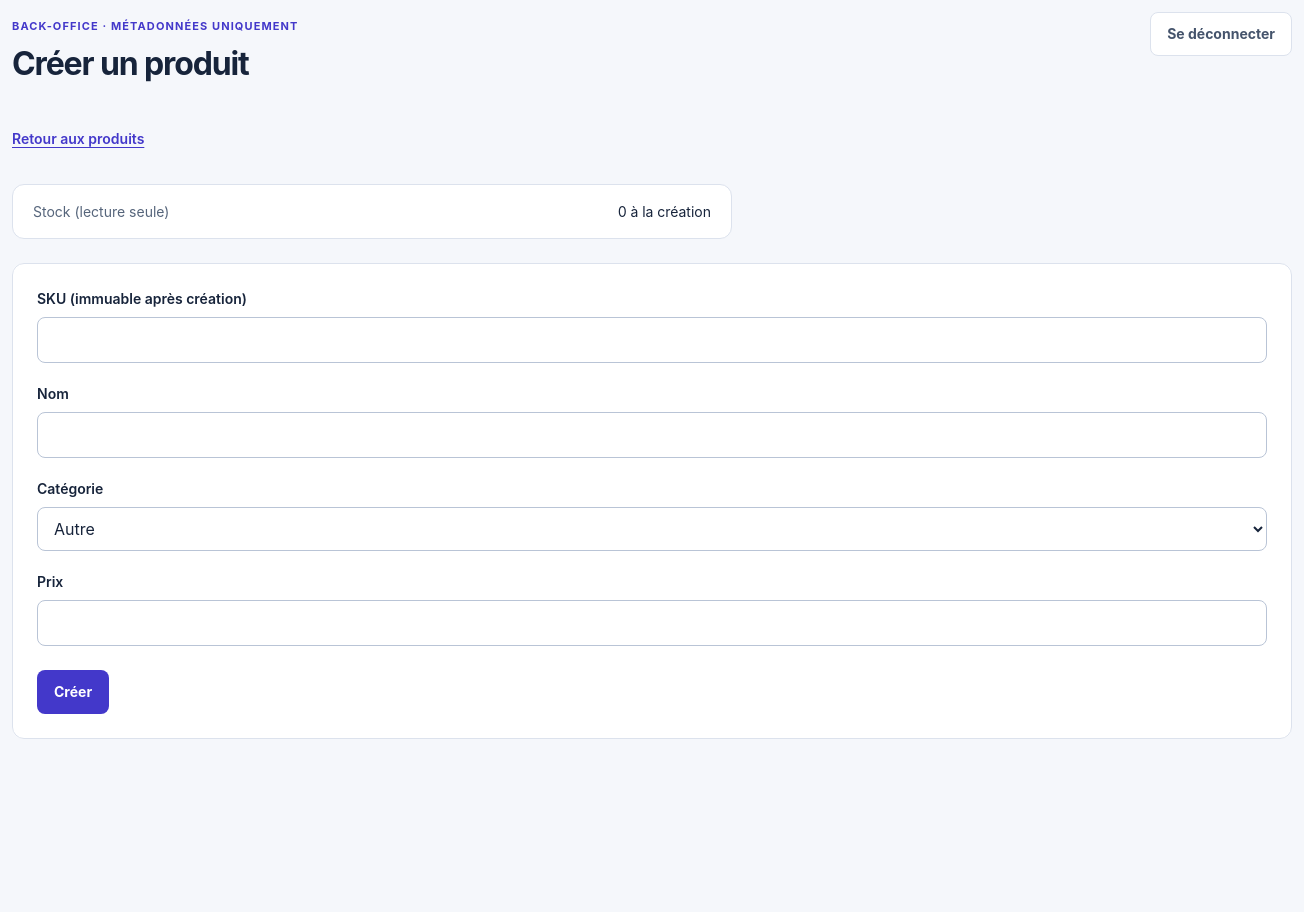
Test: creates once with cookie CSRF and whitelist, then prevents repeated creation
Type "SKU-1" into the field labelled "SKU (immuable après création)" at coordinates (652, 340), box [37,317,1267,363]
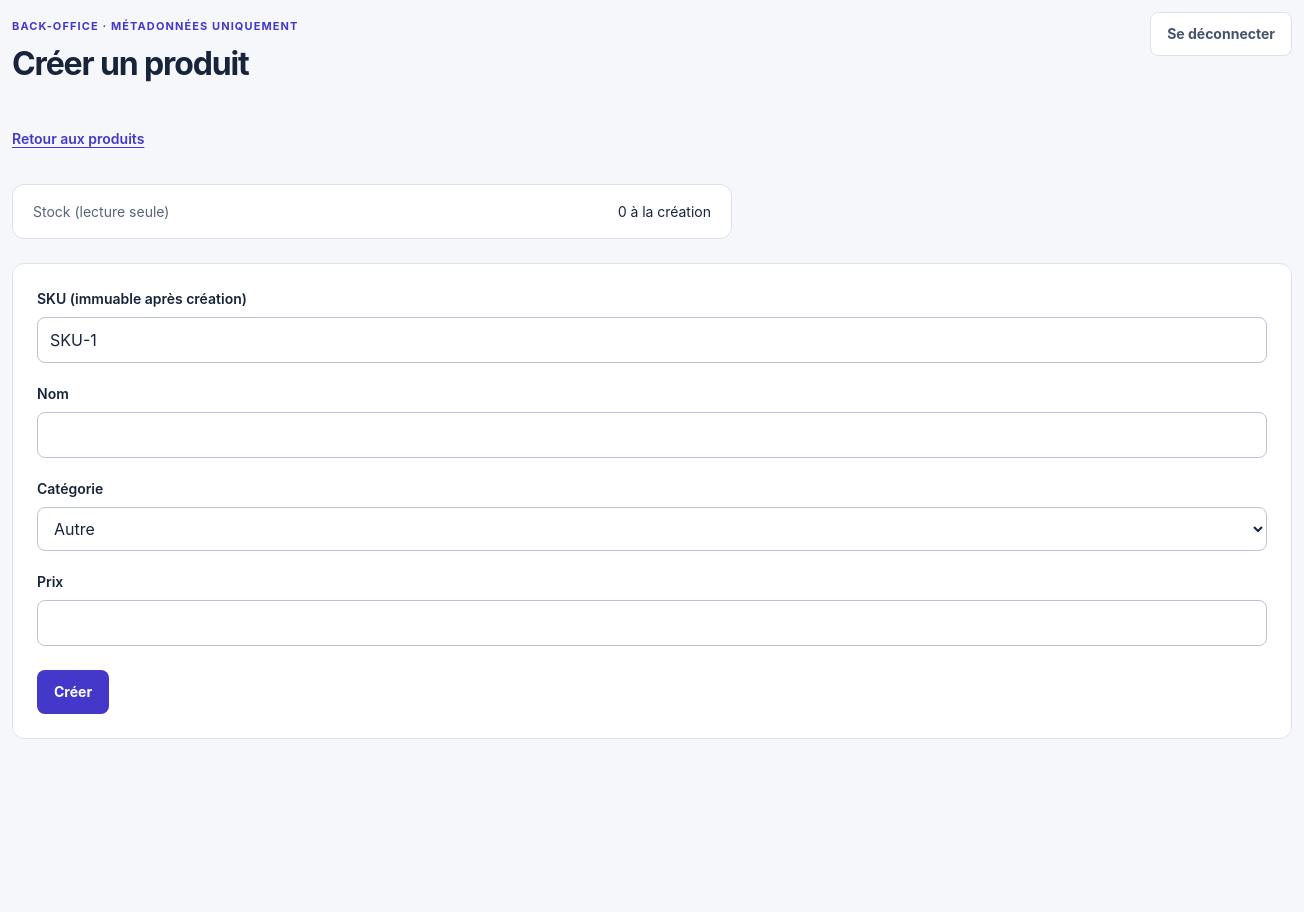
Type "Drill" into the field labelled "Nom" at coordinates (652, 435), box [37,412,1267,458]
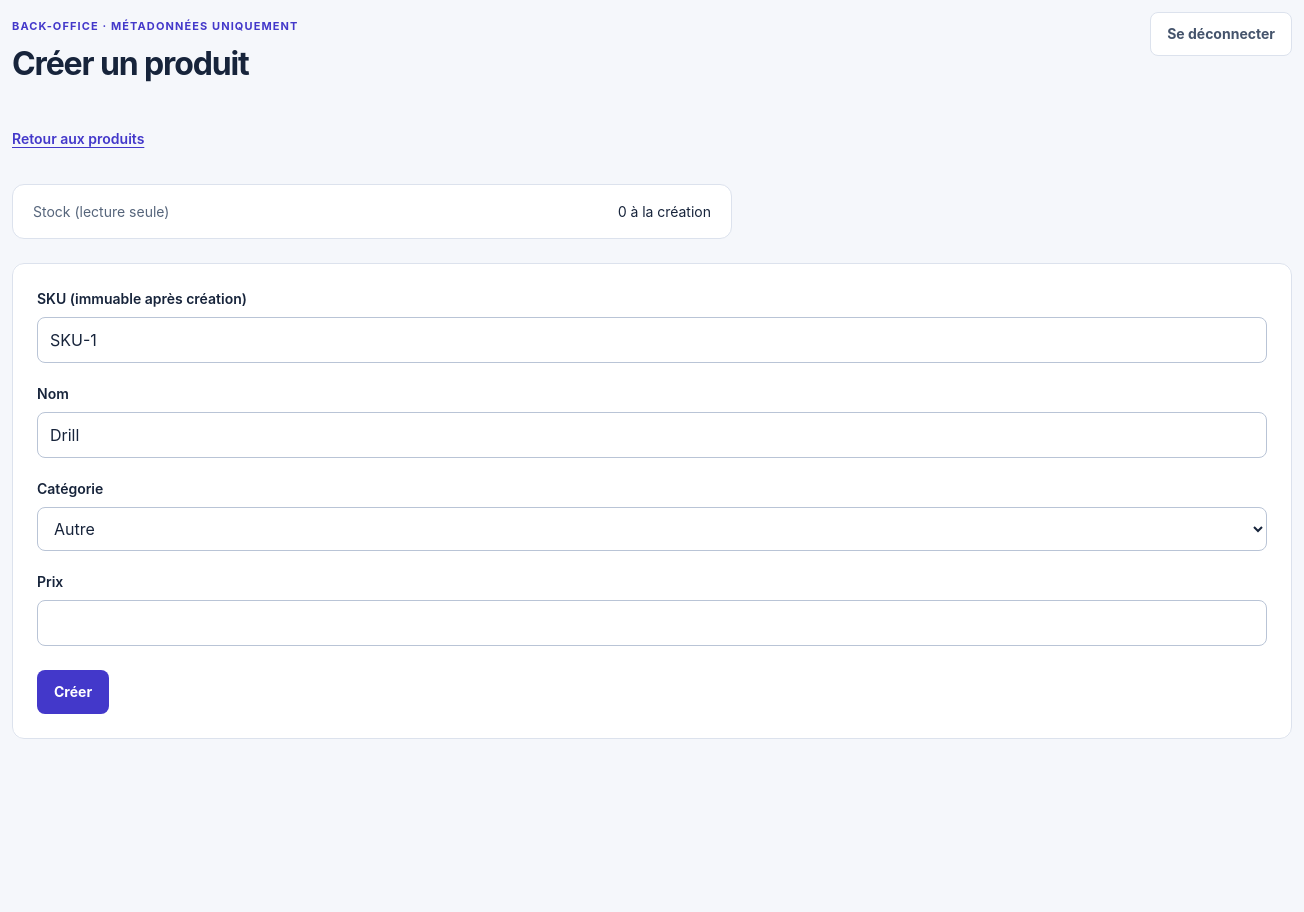
Select "Perceuse" in the dropdown labelled "Catégorie" at coordinates (652, 529), box [37,507,1267,551]
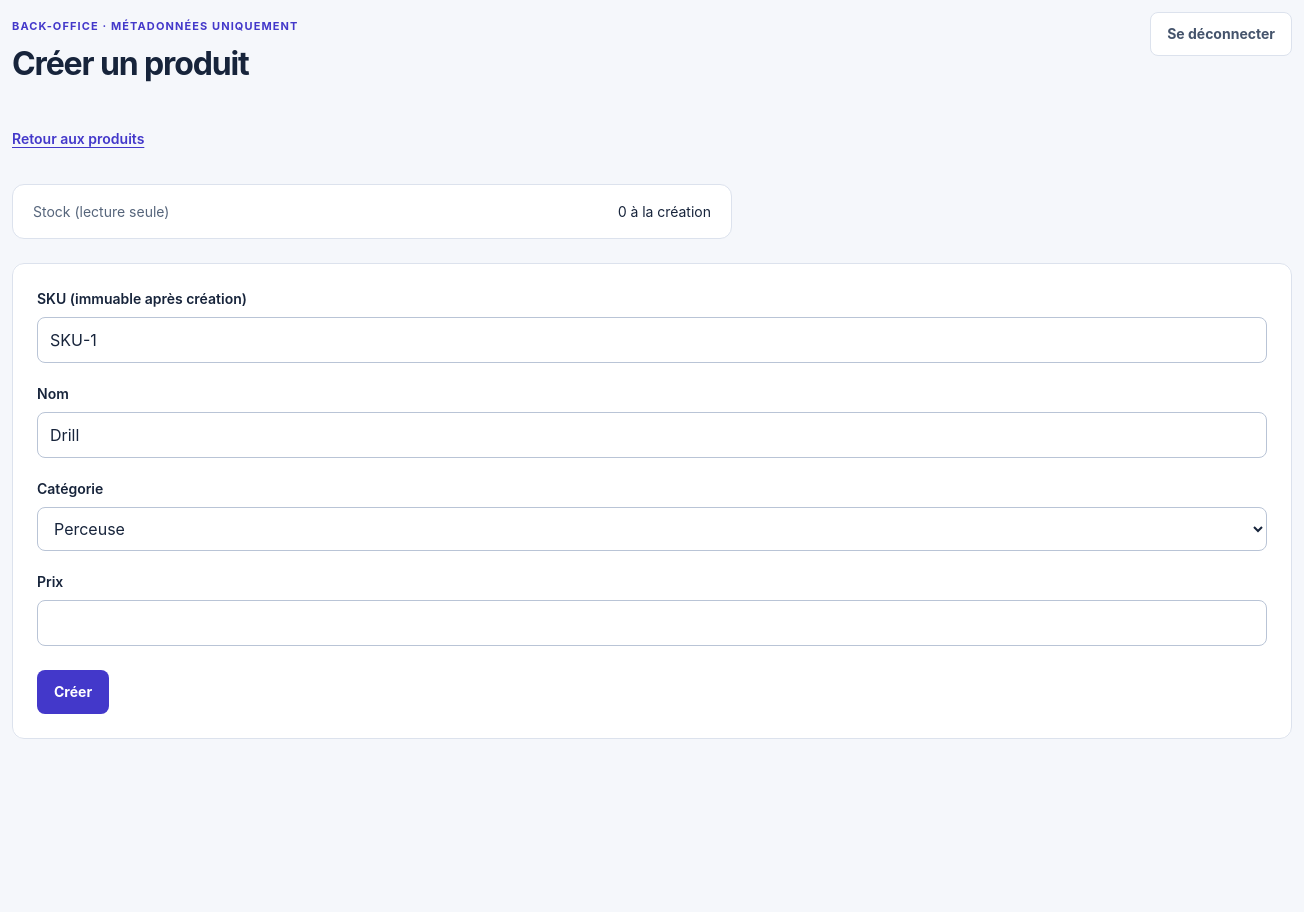
Type "12.5" into the number field labelled "Prix" at coordinates (652, 623), box [37,600,1267,646]
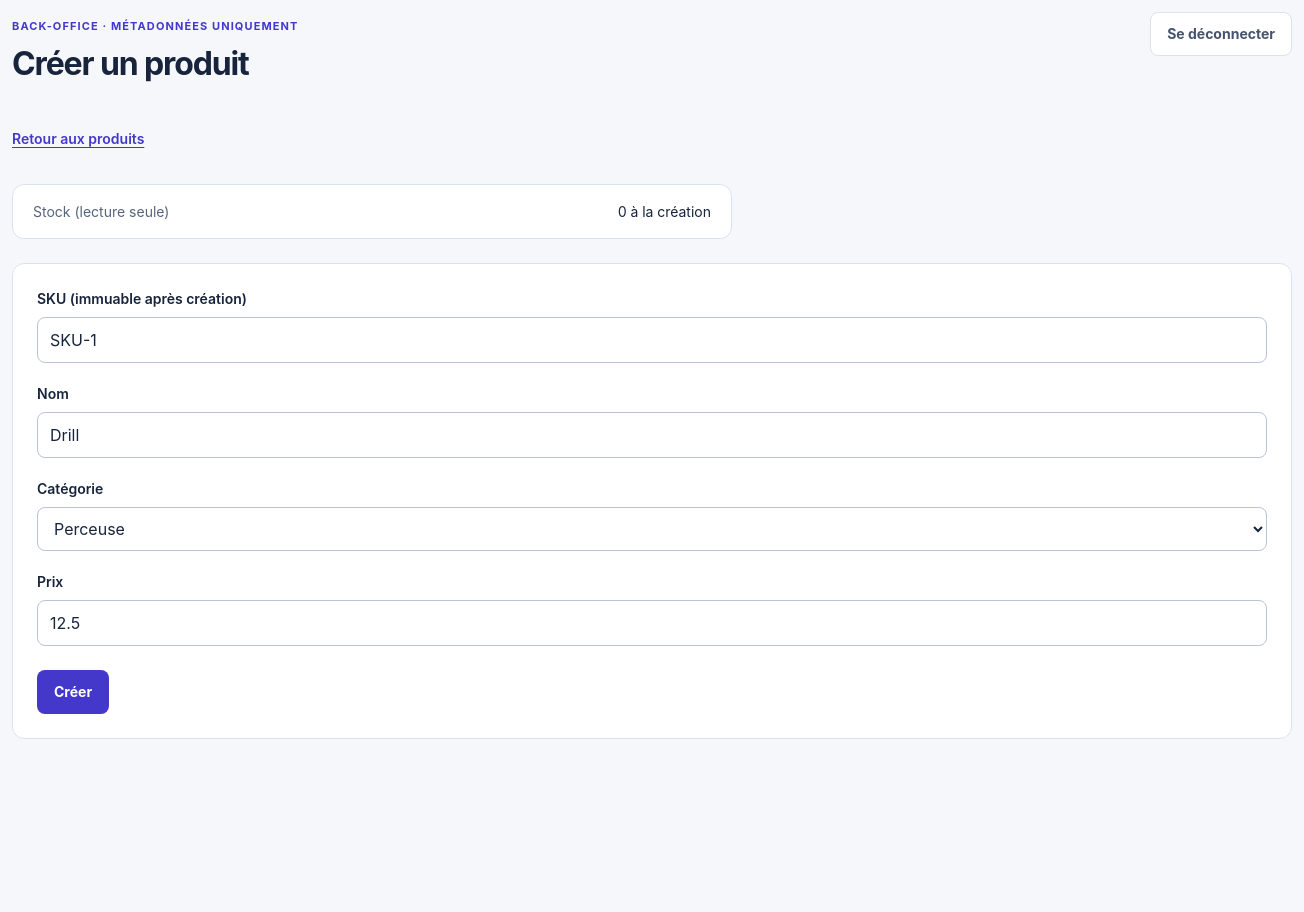
Submit the form, box [12,263,1292,739]
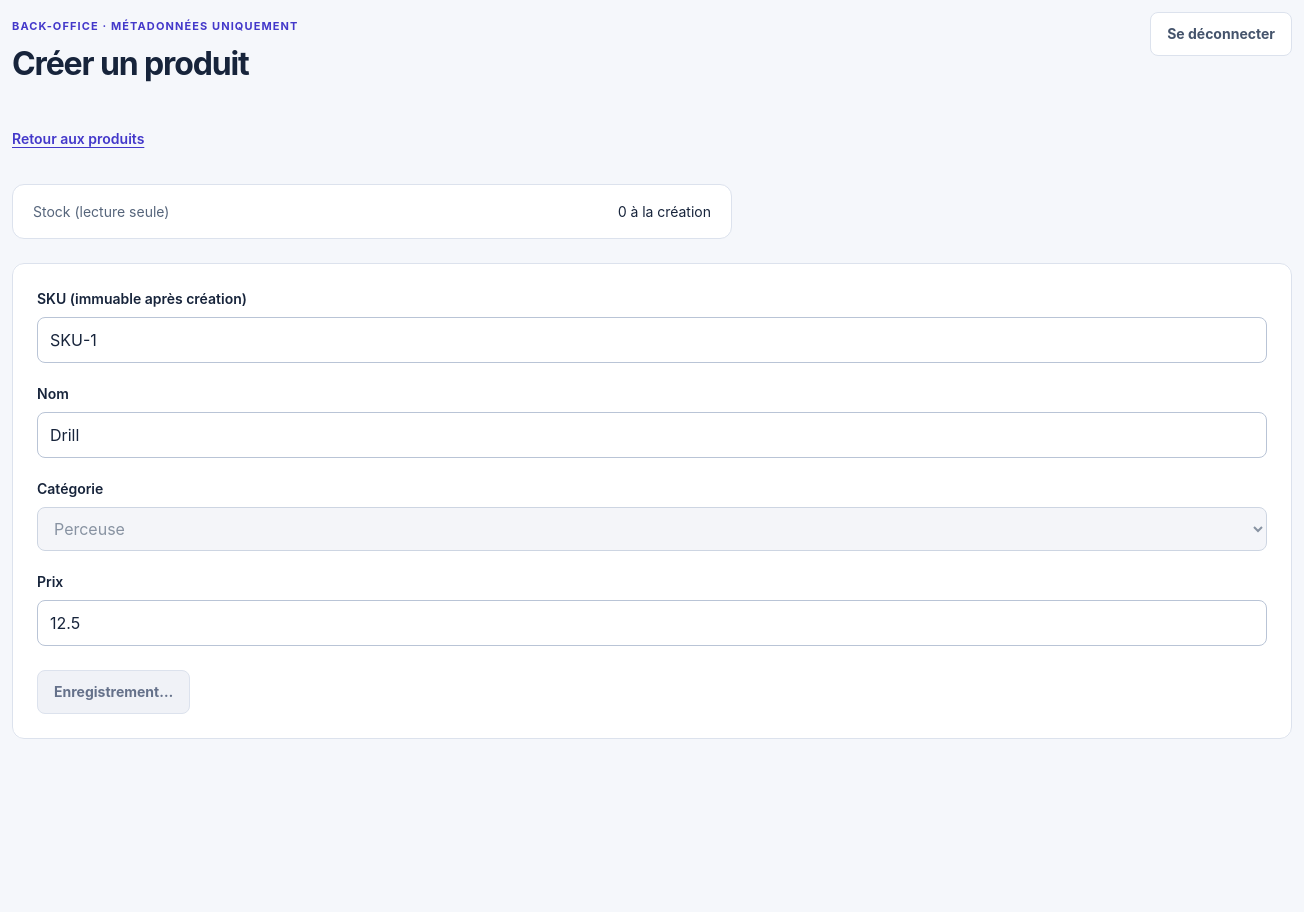
Submit the form, box [12,263,1292,739]
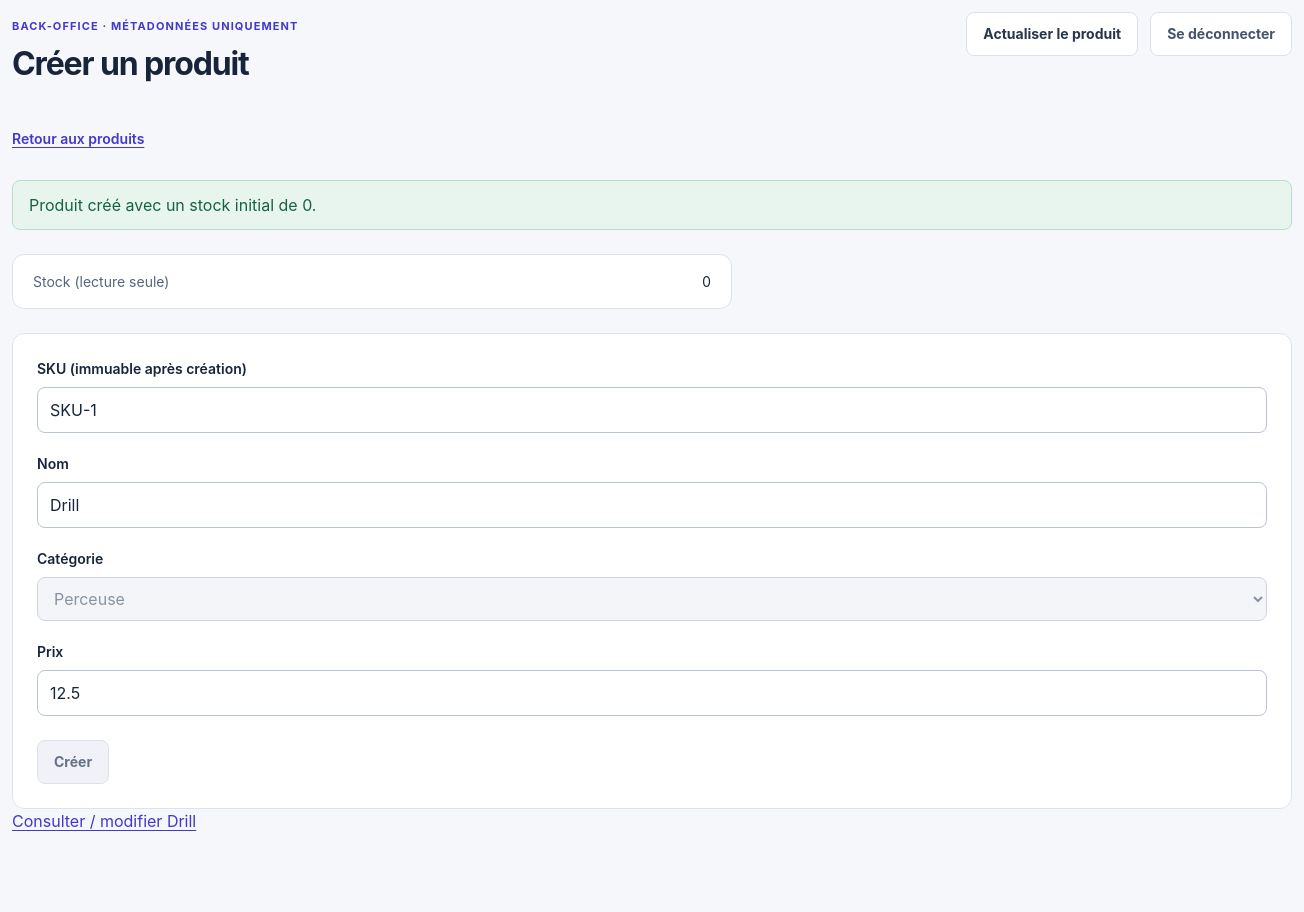
Check: the element showing "SKU (immuable après création) Nom Catégorie Prix Créer" is disabled, box [12,333,1292,809]
Check: the text "Produit créé" is shown, box [29,195,316,215]
